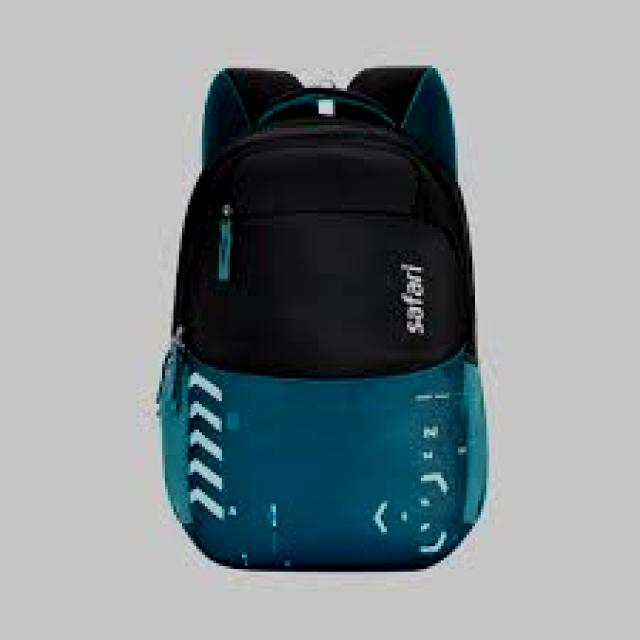backpack: (155, 64, 491, 573)
